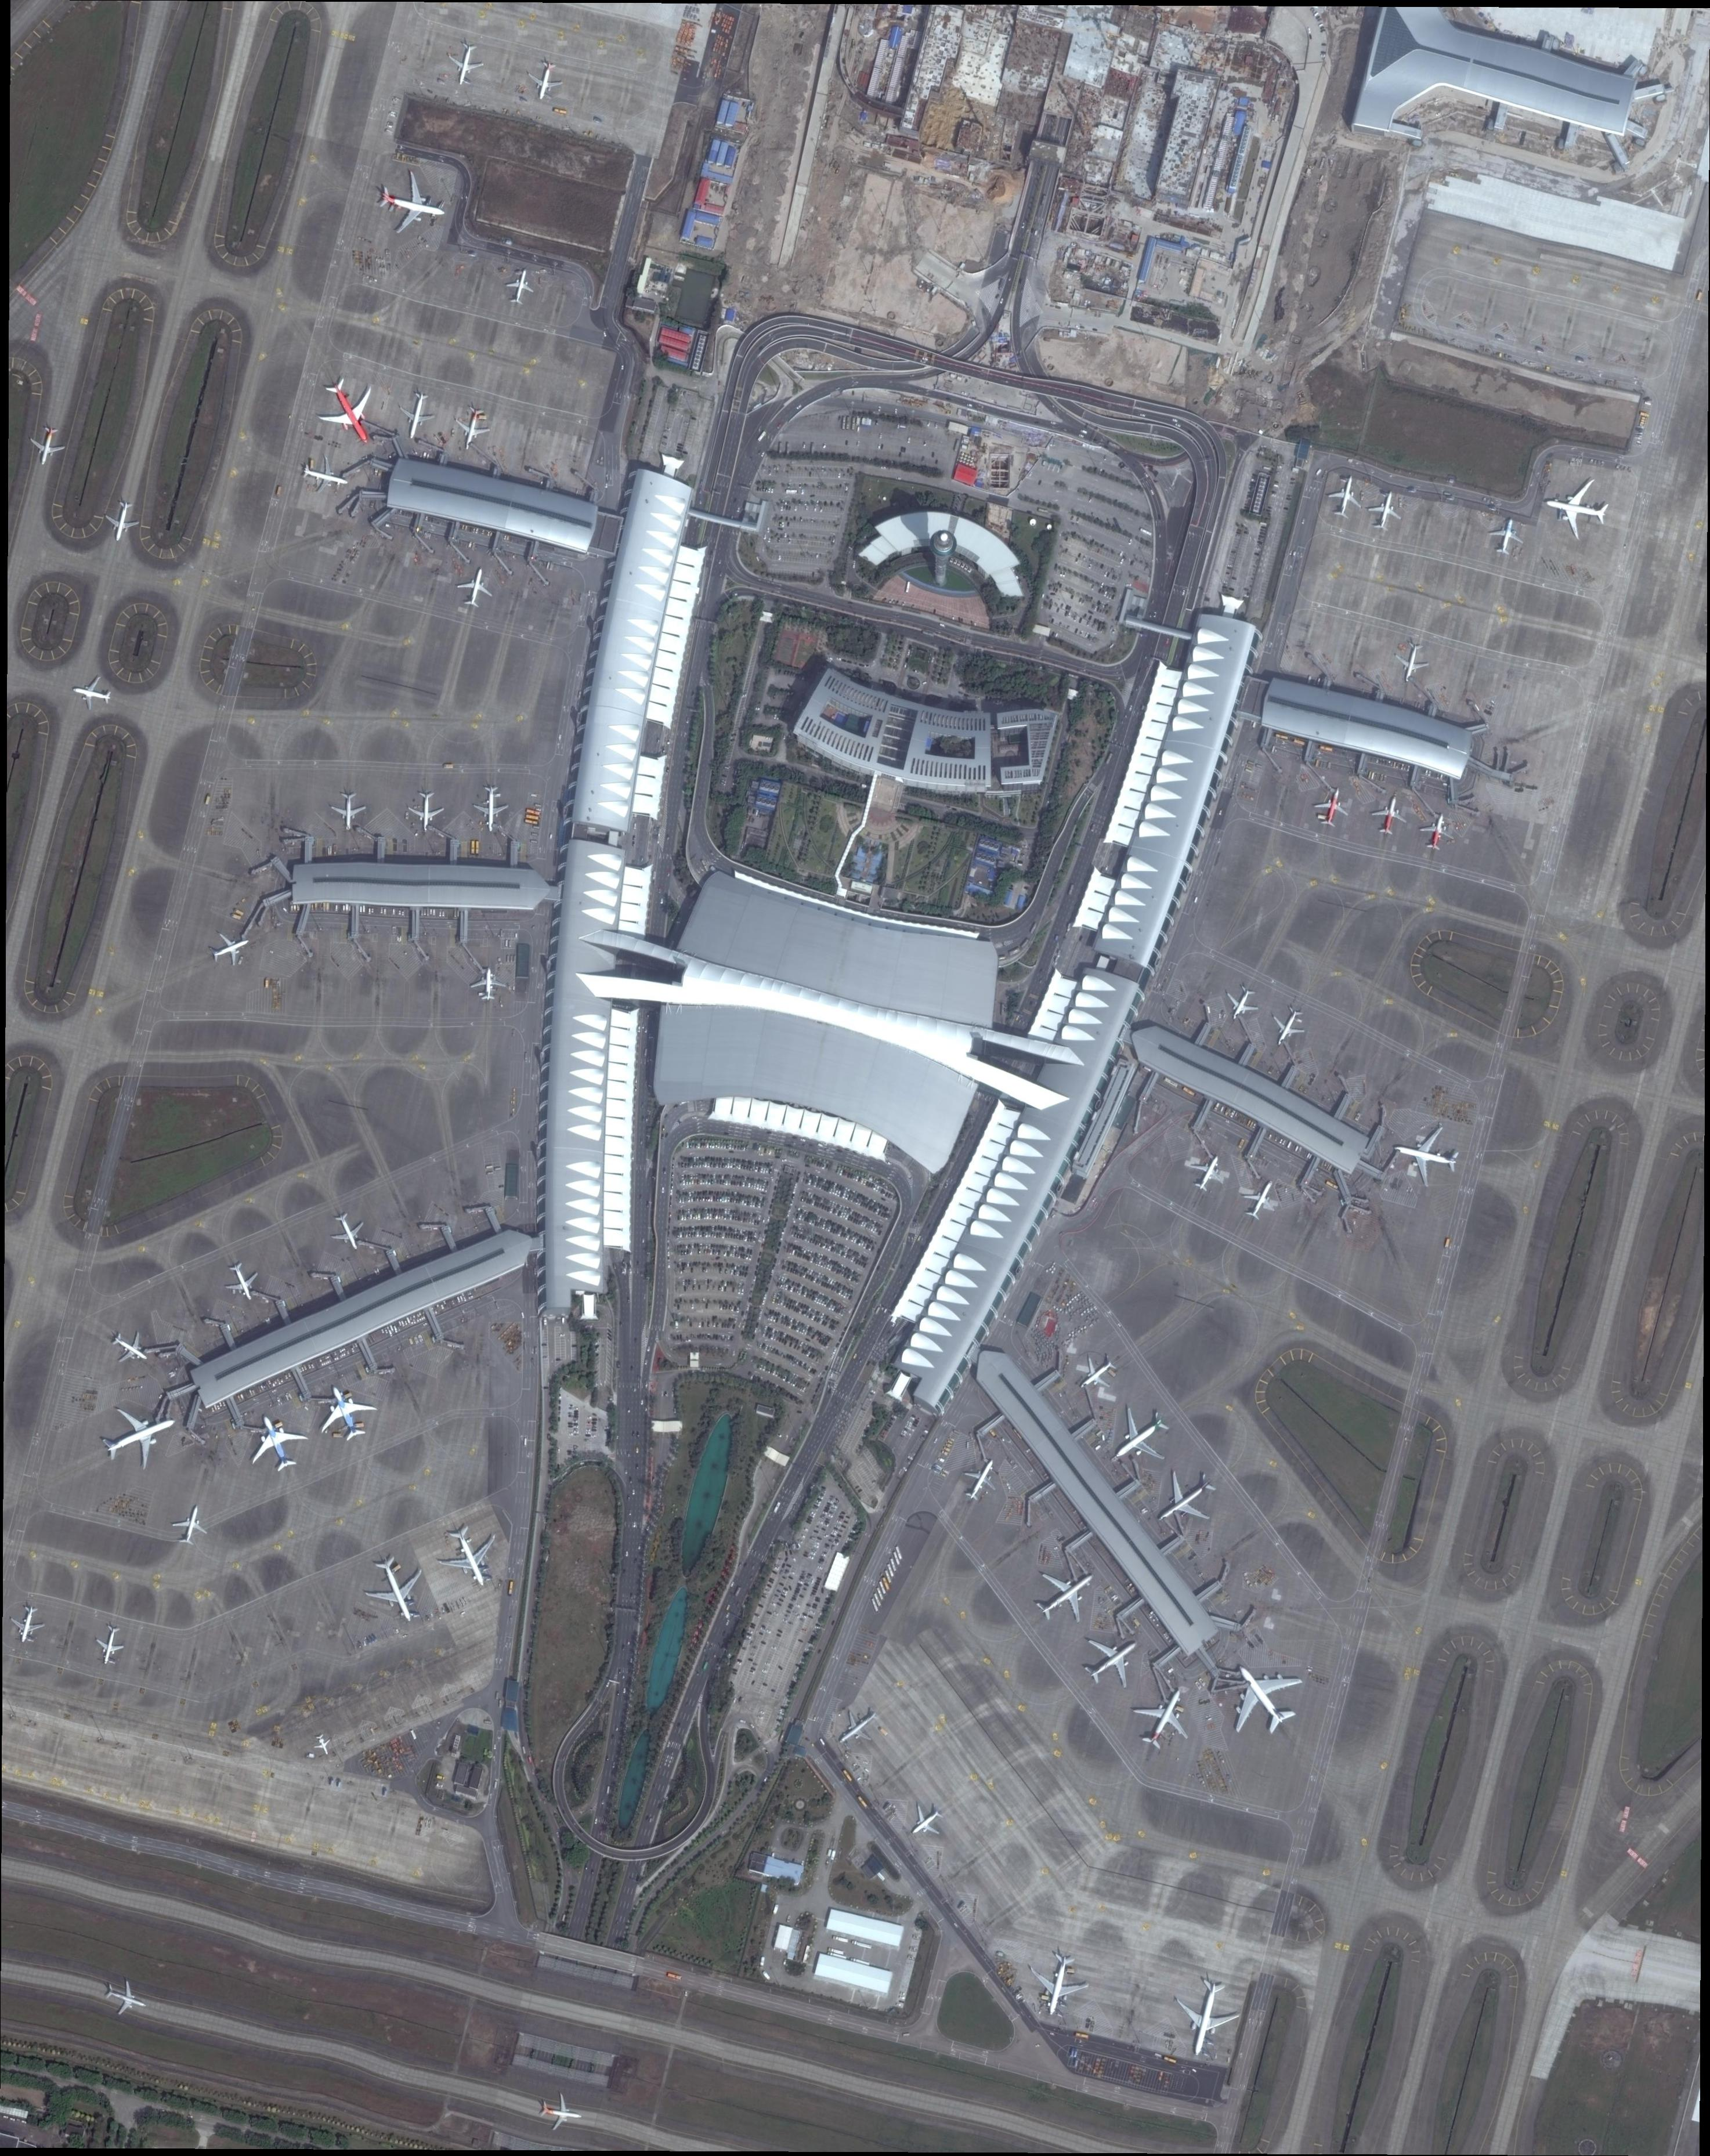plane: (1216, 1652, 1309, 1747), (96, 1396, 186, 1479), (1164, 1972, 1244, 2063), (1024, 1556, 1110, 1638), (305, 368, 387, 451), (1143, 1458, 1225, 1540), (1124, 1677, 1204, 1761), (1099, 1398, 1181, 1475), (355, 1547, 434, 1624), (1071, 1622, 1148, 1699), (373, 170, 448, 245), (1390, 1120, 1467, 1194), (308, 1377, 385, 1447), (434, 1519, 506, 1593), (1545, 471, 1615, 546), (1026, 1946, 1096, 2019), (247, 1405, 317, 1477), (1180, 1148, 1234, 1202), (1234, 1174, 1286, 1228), (952, 1454, 1005, 1507), (1264, 998, 1314, 1052), (833, 1703, 886, 1754), (320, 1202, 369, 1256), (1073, 1349, 1124, 1400), (1386, 635, 1437, 686), (298, 451, 350, 501), (448, 399, 494, 455), (441, 38, 490, 88), (166, 1500, 214, 1550), (25, 420, 72, 471), (1412, 808, 1460, 859), (100, 1976, 151, 2023), (394, 388, 439, 441), (100, 497, 147, 546), (1320, 474, 1367, 523), (1307, 786, 1355, 833), (452, 565, 497, 614), (1362, 487, 1407, 535), (1216, 980, 1265, 1025), (536, 2091, 585, 2137), (105, 1325, 152, 1368), (1369, 793, 1412, 840), (221, 1258, 264, 1304), (523, 58, 569, 101), (905, 1801, 950, 1844), (207, 928, 254, 970), (1484, 518, 1530, 560), (4, 1603, 51, 1643), (88, 1621, 128, 1668), (70, 674, 116, 712), (406, 789, 445, 831), (499, 266, 537, 306), (473, 787, 508, 829), (329, 791, 366, 829), (469, 966, 506, 1001), (306, 1727, 336, 1759)
